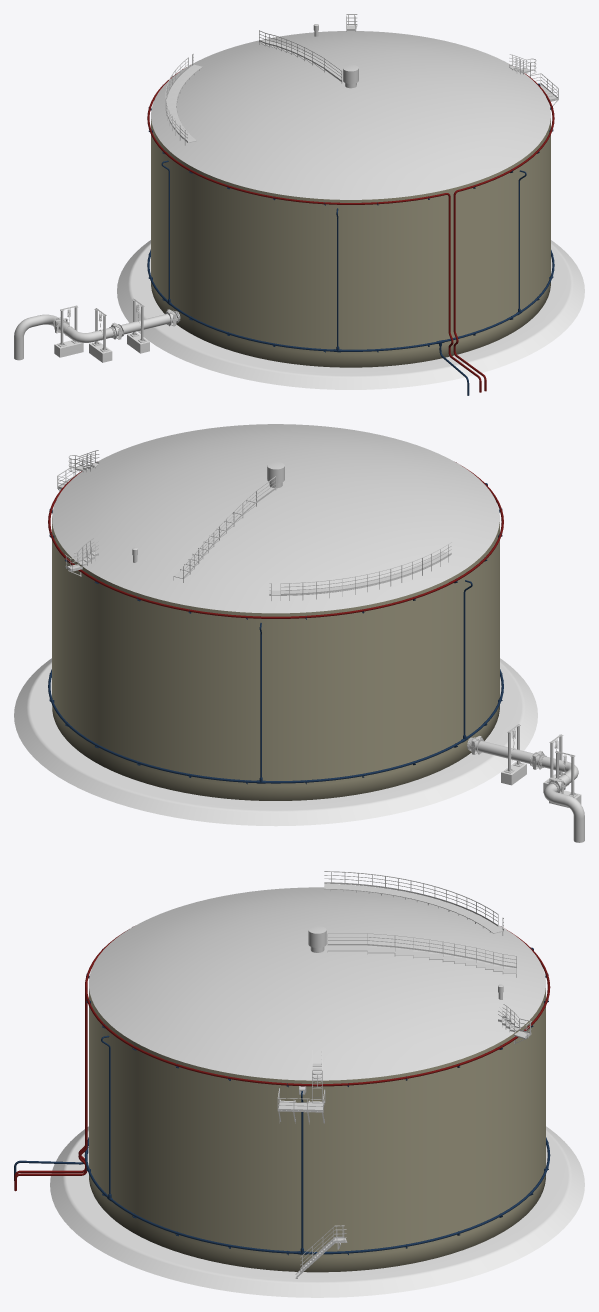
The model's file is SM_OilStorage_30K.fbx.
3 renders of one model, top to bottom at view 1: azimuth 30°, elevation 25°; view 2: azimuth 150°, elevation 25°; view 3: azimuth 270°, elevation 25°, orthographic. The views are drawn at different scales.
Parts seen in each view (by area): view 1: SM_OilWall_30K, SM_OilRoof_30K, SM_Foundatoin_30K, SM_SmallPipes_30K_LOD0, SM_BigTube_30K_LOD0, SM_IndustrialSite_V1_30K_LOD0, SM_BigTubeConcrateSupport_30K_LOD0, SM_IndustrialSite_V3_30K_LOD0, SM_Porch_30K_LOD0; view 2: SM_OilWall_30K, SM_OilRoof_30K, SM_Foundatoin_30K, SM_SmallPipes_30K_LOD0, SM_BigTube_30K_LOD0, SM_IndustrialSite_V1_30K_LOD0, SM_IndustrialSite_V3_30K_LOD0, SM_Porch_30K_LOD0, SM_BigTubeConcrateSupport_30K_LOD0; view 3: SM_OilWall_30K, SM_OilRoof_30K, SM_Foundatoin_30K, SM_SmallPipes_30K_LOD0, SM_IndustrialSite_V1_30K_LOD0, SM_IndustrialSite_V3_30K_LOD0, SM_Porch_30K_LOD0, SM_Ladder_V1_30K_LOD0.
Boxes of the visible parts, left/top/right/bottom form: SM_OilWall_30K: left=151, top=118, right=550, bottom=367; SM_OilRoof_30K: left=151, top=31, right=550, bottom=199; SM_Foundatoin_30K: left=117, top=240, right=584, bottom=389; SM_SmallPipes_30K_LOD0: left=147, top=67, right=554, bottom=395; SM_BigTube_30K_LOD0: left=14, top=299, right=180, bottom=360; SM_IndustrialSite_V1_30K_LOD0: left=165, top=53, right=202, bottom=145; SM_BigTubeConcrateSupport_30K_LOD0: left=54, top=332, right=149, bottom=362; SM_IndustrialSite_V3_30K_LOD0: left=259, top=30, right=343, bottom=83; SM_Porch_30K_LOD0: left=509, top=54, right=558, bottom=105; SM_OilWall_30K: left=52, top=518, right=499, bottom=800; SM_OilRoof_30K: left=52, top=424, right=499, bottom=613; SM_Foundatoin_30K: left=14, top=658, right=537, bottom=826; SM_SmallPipes_30K_LOD0: left=48, top=461, right=503, bottom=784; SM_BigTube_30K_LOD0: left=467, top=724, right=584, bottom=842; SM_IndustrialSite_V1_30K_LOD0: left=269, top=542, right=451, bottom=600; SM_IndustrialSite_V3_30K_LOD0: left=173, top=476, right=276, bottom=582; SM_Porch_30K_LOD0: left=57, top=450, right=99, bottom=491; SM_BigTubeConcrateSupport_30K_LOD0: left=501, top=761, right=581, bottom=807; SM_OilWall_30K: left=89, top=988, right=545, bottom=1272; SM_OilRoof_30K: left=89, top=887, right=545, bottom=1080; SM_Foundatoin_30K: left=50, top=1126, right=584, bottom=1297; SM_SmallPipes_30K_LOD0: left=14, top=926, right=550, bottom=1255; SM_IndustrialSite_V1_30K_LOD0: left=324, top=871, right=503, bottom=935; SM_IndustrialSite_V3_30K_LOD0: left=327, top=933, right=516, bottom=977; SM_Porch_30K_LOD0: left=277, top=1050, right=325, bottom=1124; SM_Ladder_V1_30K_LOD0: left=498, top=1003, right=531, bottom=1044.
Size of what is drawn, in the model's own units: 58.71 by 26.42 by 49.95.
